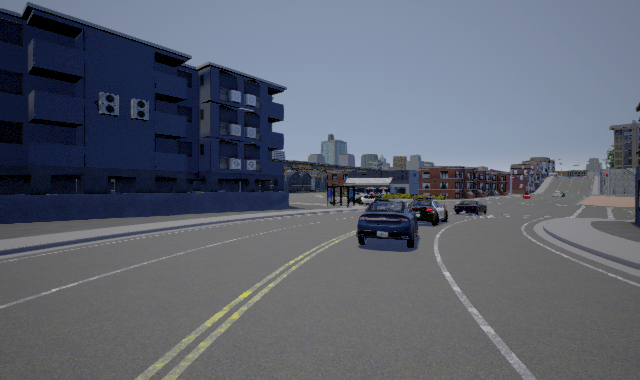vehicle: (355, 199, 418, 248), (405, 197, 450, 226), (453, 200, 487, 215)
